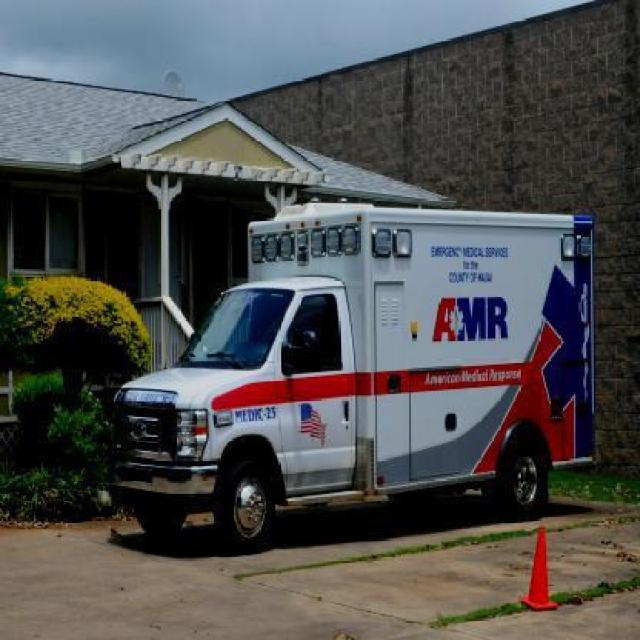Ambulance: (97, 192, 595, 532)
